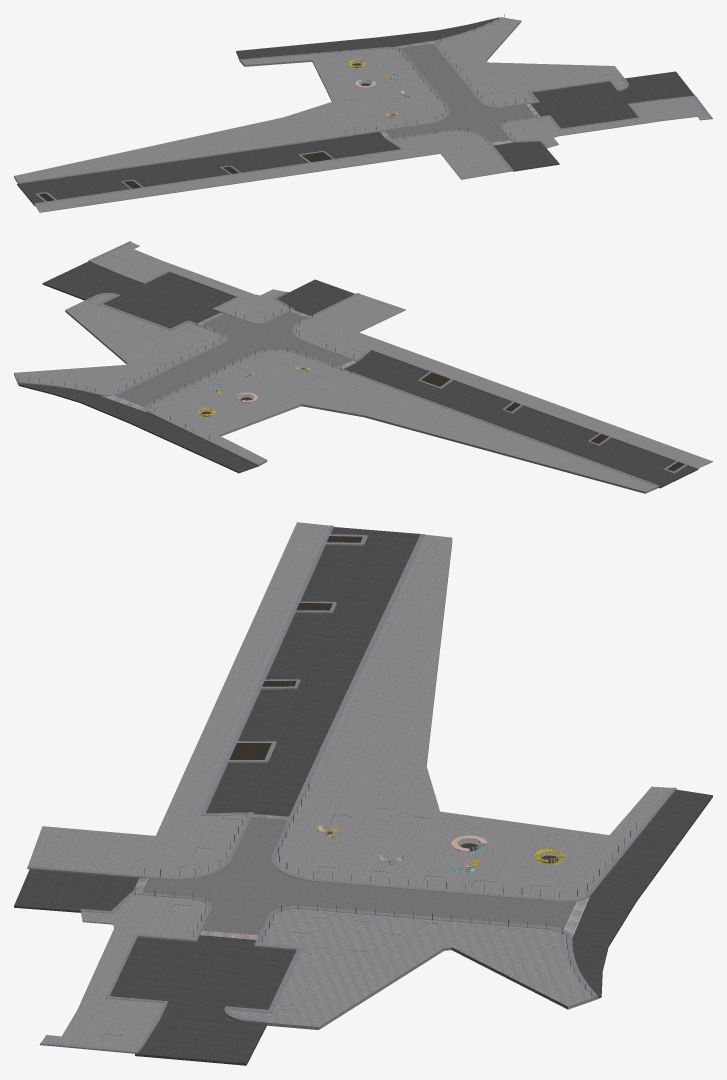
Rendered from kridlovicka3.glb.
The picture shows the model from 3 angles, top to bottom: view 1: azimuth 30°, elevation 25°; view 2: azimuth 150°, elevation 25°; view 3: azimuth 270°, elevation 25°; orthographic projection. The views are drawn at different scales.
Parts seen in each view (by area): view 1: pavement poles.003; view 2: pavement poles.003; view 3: pavement poles.003.
Boxes of the visible parts, bbox=[...] form: pavement poles.003: bbox=[14, 14, 712, 212]; pavement poles.003: bbox=[14, 241, 712, 493]; pavement poles.003: bbox=[14, 522, 712, 1065].
Bounding box in the file's own units: 131 × 1.16 × 71.73.
14 materials, 9 textured.
